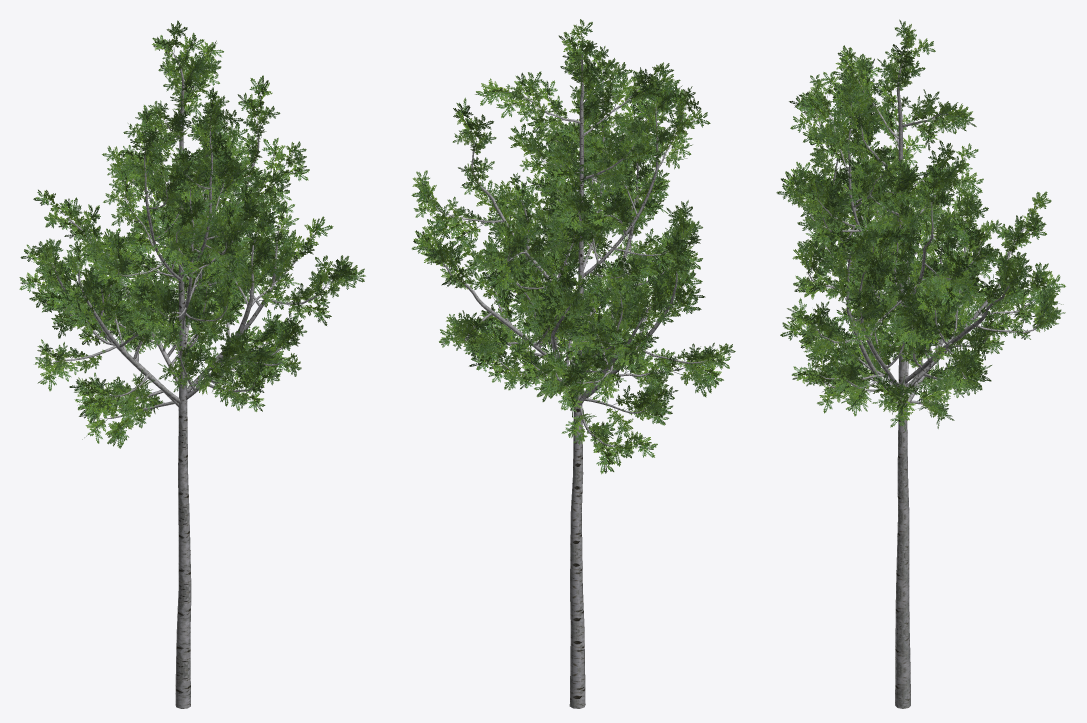
File: shade-c.glb
3 views of the same model, side by side, from view 1: azimuth 30°, elevation 25°; view 2: azimuth 150°, elevation 25°; view 3: azimuth 270°, elevation 25° (orthographic).
Visible parts, largest first — view 1: leaves, bark; view 2: leaves, bark; view 3: leaves, bark.
Boxes of the visible parts, bbox=[...] form: leaves: bbox=[19, 20, 365, 448]; bark: bbox=[52, 51, 329, 708]; leaves: bbox=[411, 19, 735, 474]; bark: bbox=[435, 53, 707, 708]; leaves: bbox=[776, 19, 1065, 431]; bark: bbox=[807, 55, 1044, 708].
Bounding box in the file's own units: 0.4616 × 1 × 0.4014.
Materials: 2 (2 with a texture image).
